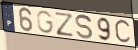6: (18, 7, 34, 33)
9: (95, 17, 112, 43)
C: (114, 18, 133, 46)
G: (36, 10, 55, 35)
S: (75, 14, 94, 41)
Z: (54, 11, 75, 38)
